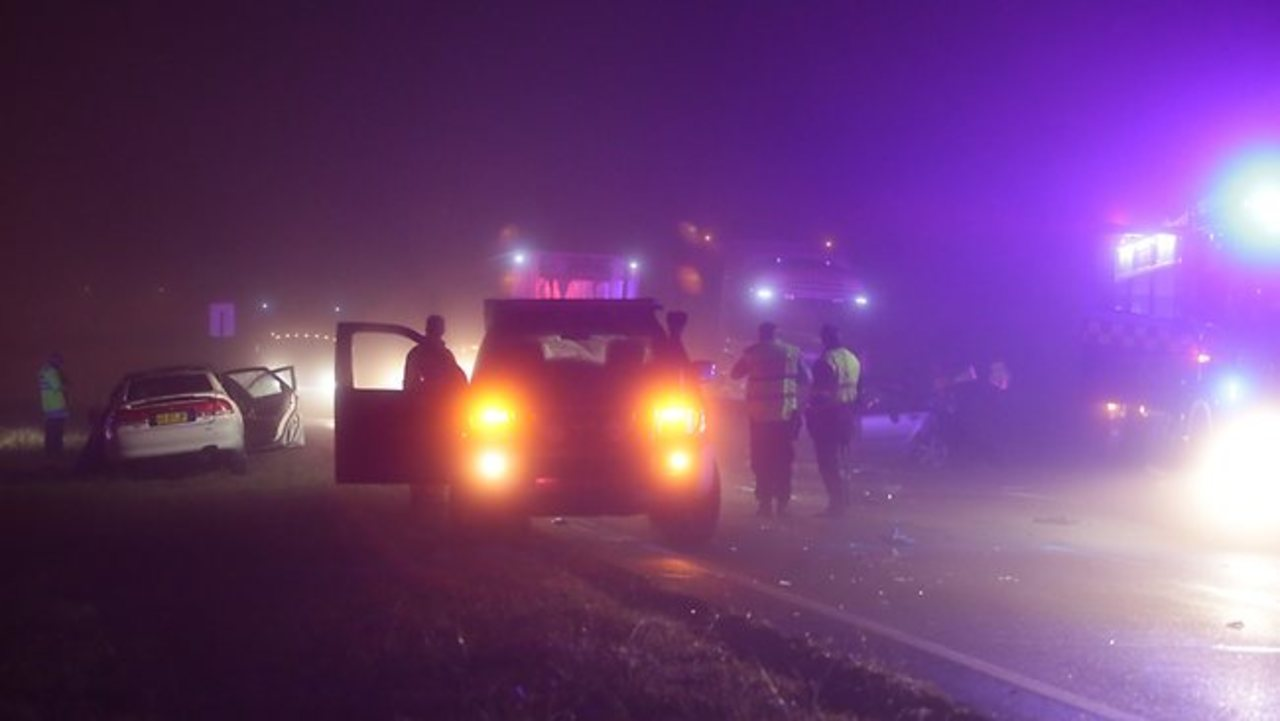car: (336, 295, 724, 542), (99, 358, 303, 473)
person: (733, 321, 803, 520), (801, 321, 863, 522), (398, 312, 450, 525), (33, 348, 73, 465)
truck: (712, 231, 868, 474)
